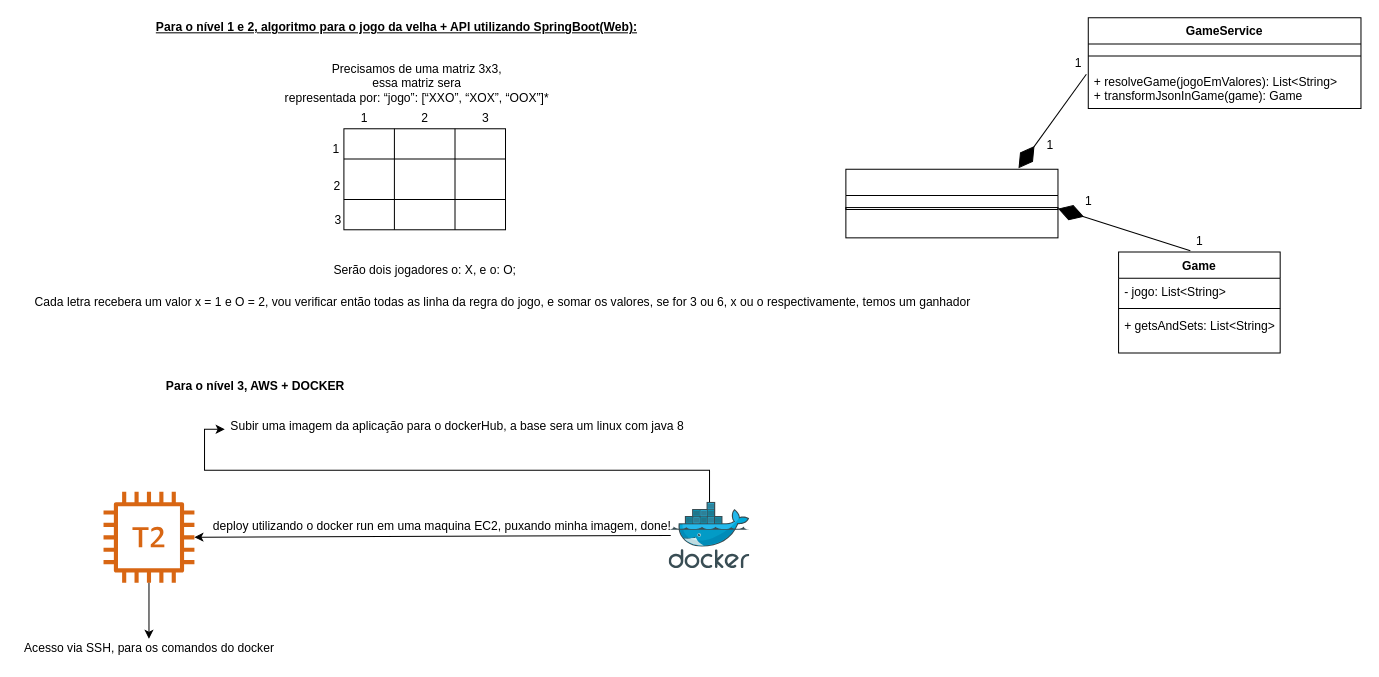
The diagram is 1379 pixels wide and 677 high, and some of its shapes have lost their labels. Each missing label, with the centre of its shape:
+ verificaJogo(game): Game: (x=951, y=222)
VelhaController: (x=951, y=189)
